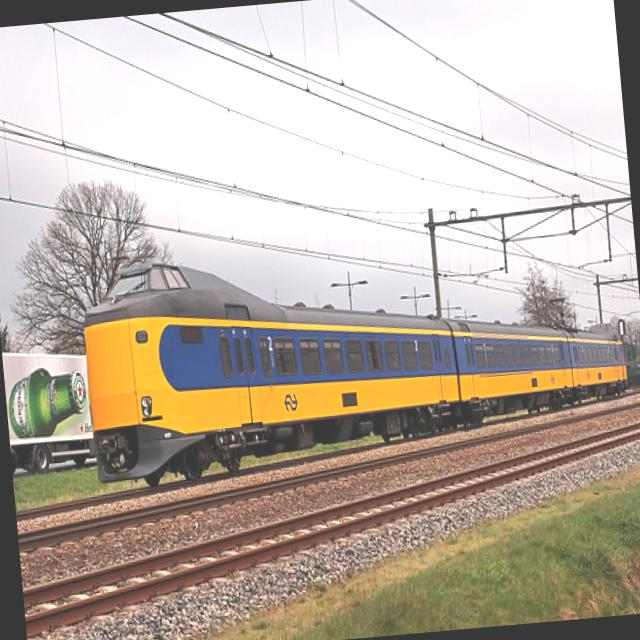Vehicle: (1, 338, 95, 476)
